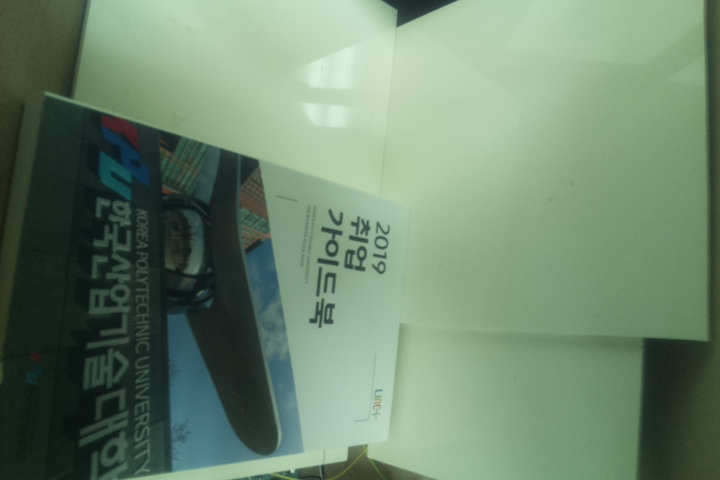book: (1, 90, 406, 480)
